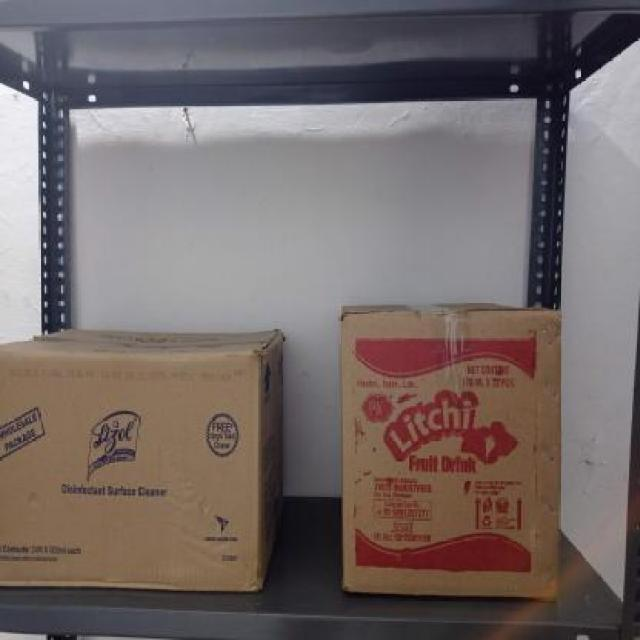box: (340, 310, 560, 599), (0, 356, 265, 593)
